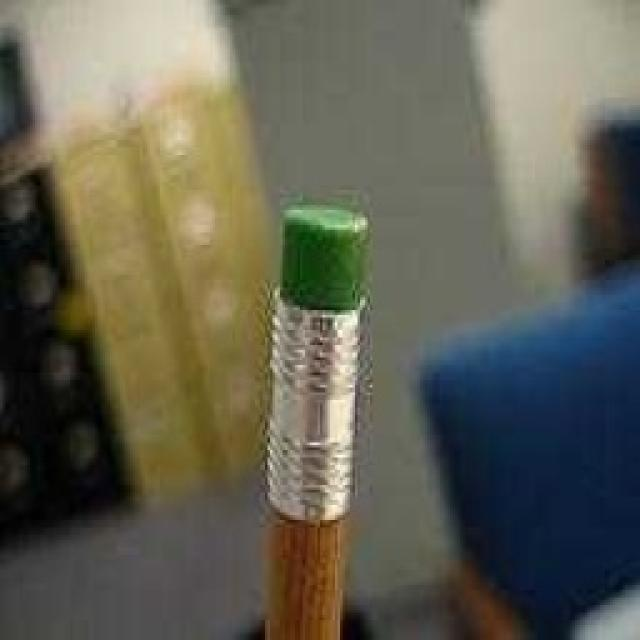Silgi: (280, 205, 374, 311)
